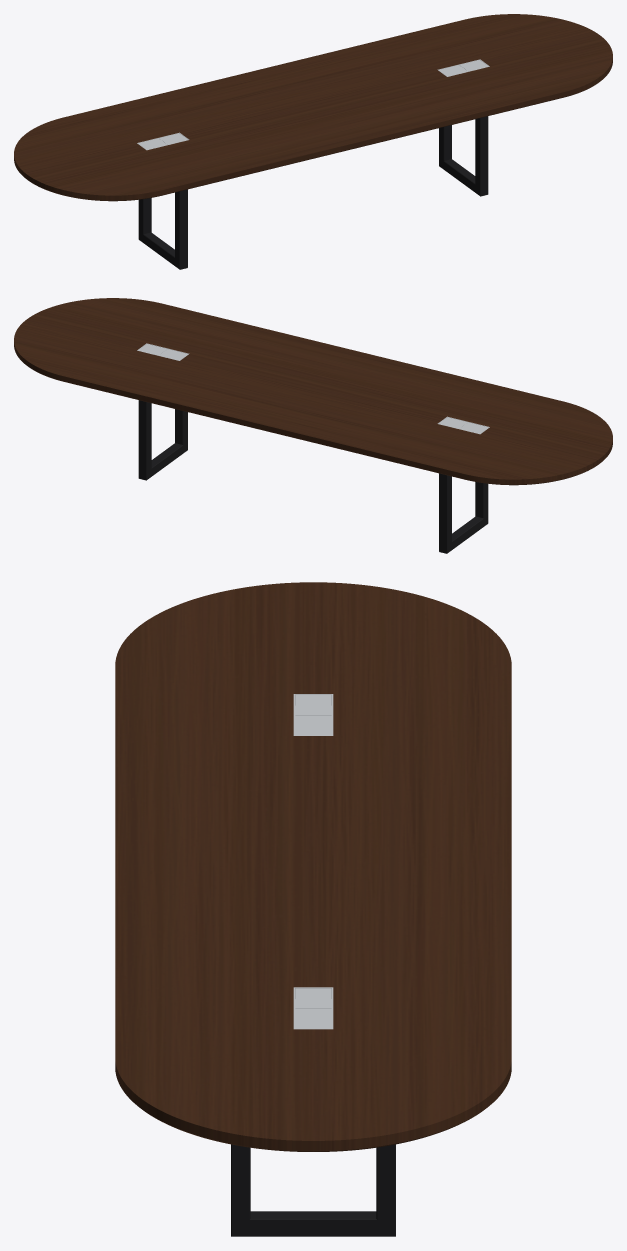
The model's file is Office_Conference_Table.glb.
3 views of the same model, one above another, from view 1: azimuth 30°, elevation 25°; view 2: azimuth 150°, elevation 25°; view 3: azimuth 270°, elevation 25° (orthographic). The views are drawn at different scales.
Visible parts, largest first — view 1: Table_Top, Table_Leg_R, Table_Leg_L, Table_Grommet_L, Table_Grommet_R; view 2: Table_Top, Table_Leg_R, Table_Leg_L, Table_Grommet_L, Table_Grommet_R; view 3: Table_Top, Table_Leg_R, Table_Grommet_R, Table_Grommet_L.
Boxes of the visible parts, x1,y1,x2,y2 form: Table_Top: (14, 14, 612, 201); Table_Leg_R: (439, 116, 488, 196); Table_Leg_L: (138, 189, 187, 269); Table_Grommet_L: (137, 132, 189, 150); Table_Grommet_R: (437, 59, 489, 76); Table_Top: (14, 298, 612, 485); Table_Leg_R: (138, 400, 187, 480); Table_Leg_L: (439, 473, 488, 553); Table_Grommet_L: (437, 416, 489, 434); Table_Grommet_R: (137, 343, 189, 360); Table_Top: (115, 582, 511, 1151); Table_Leg_R: (231, 1144, 395, 1236); Table_Grommet_R: (293, 987, 333, 1029); Table_Grommet_L: (293, 694, 333, 735).
Size of the model in its own units: 4 by 0.75 by 1.2.
Materials: 3 (1 with a texture image).
